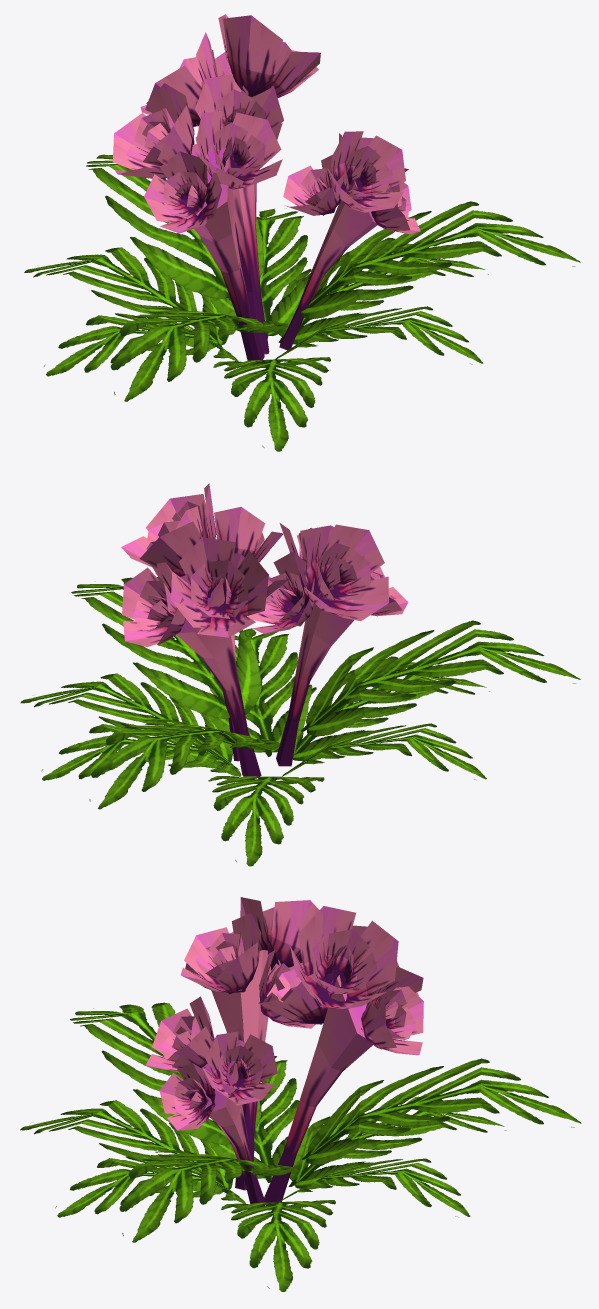
File: V2_Mutated Flower.fbx
3 renders of one model, top to bottom at view 1: azimuth 30°, elevation 25°; view 2: azimuth 150°, elevation 25°; view 3: azimuth 270°, elevation 25°, orthographic. The views are drawn at different scales.
Parts seen in each view (by area): view 1: Cube.004; view 2: Cube.004; view 3: Cube.004.
Part boxes in pixels (x1,y1,x2,y2): Cube.004: [24, 14, 580, 451]; Cube.004: [20, 483, 580, 866]; Cube.004: [20, 897, 581, 1291].
Size of the model in its own units: 714 by 435 by 727.
1 material, 1 textured.
